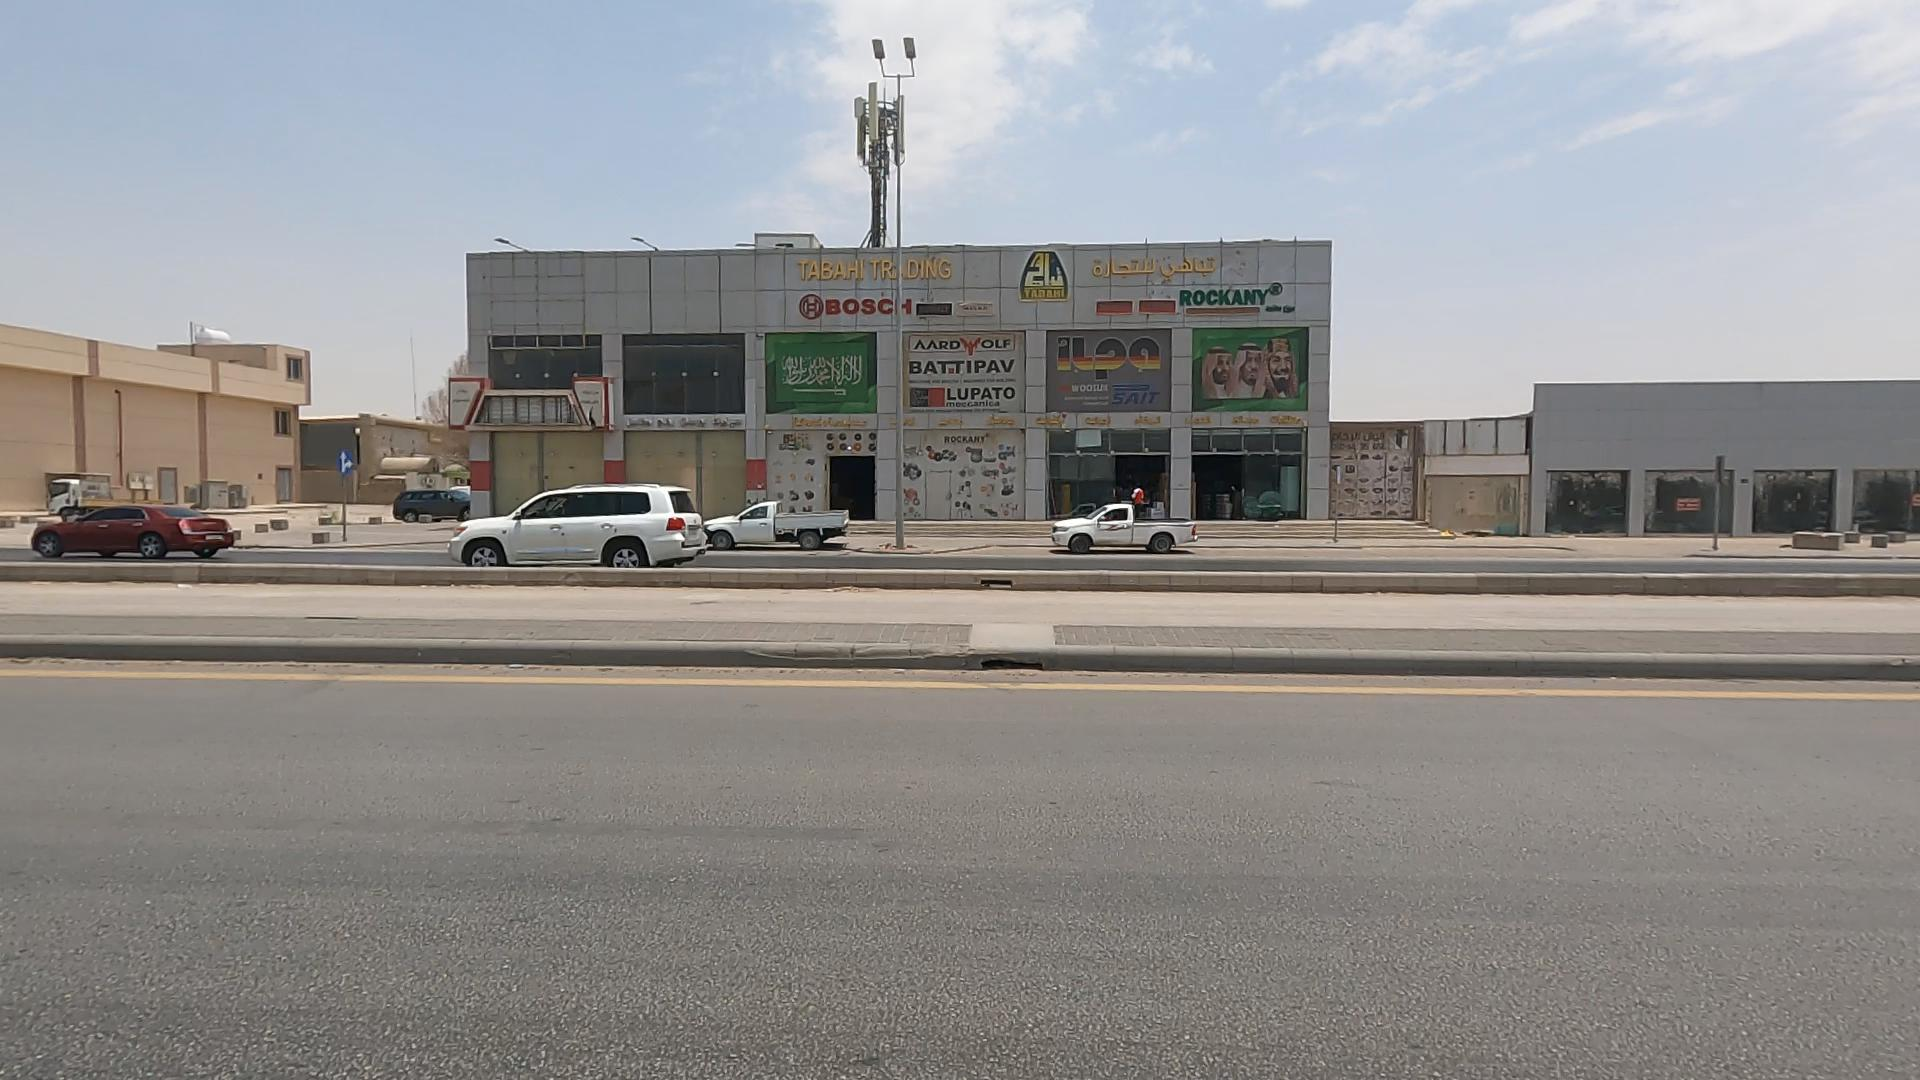BAD_BILLBOARD: (340, 346, 734, 471)
